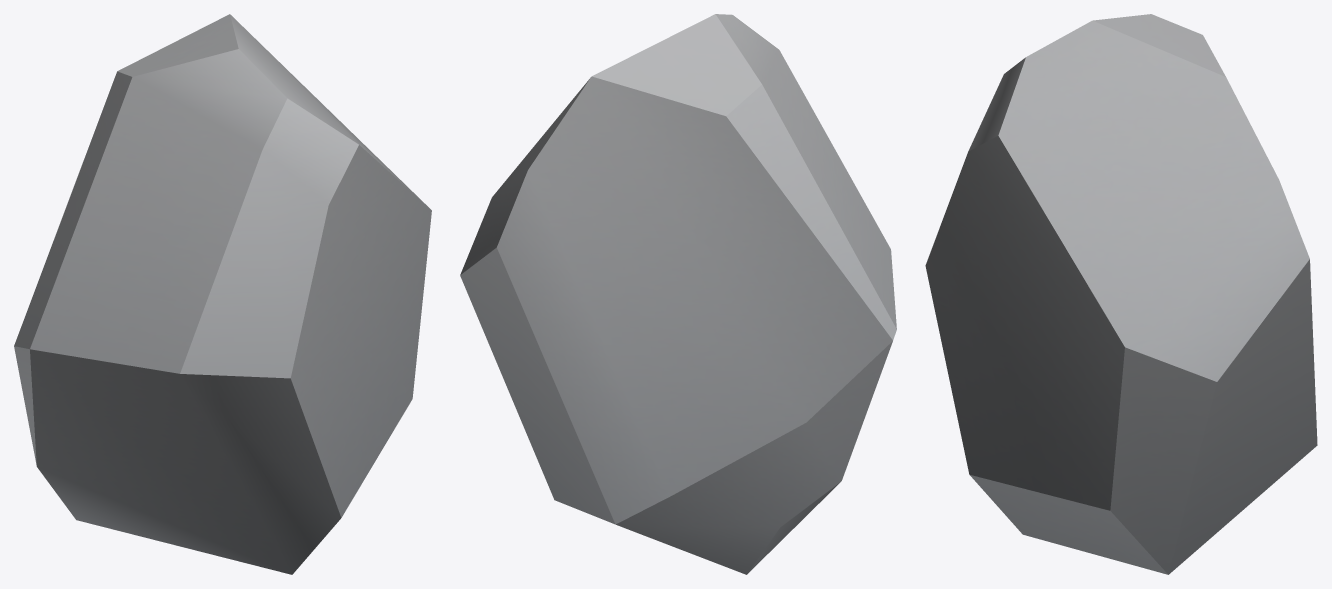
Rendered from rocaRedonda4.fbx.
The picture shows the model from 3 angles, left to right: view 1: azimuth 30°, elevation 25°; view 2: azimuth 150°, elevation 25°; view 3: azimuth 270°, elevation 25°; orthographic projection.
Parts seen in each view (by area): view 1: rocaRedonda4; view 2: rocaRedonda4; view 3: rocaRedonda4.
Part boxes in pixels (<box>): rocaRedonda4: <box>14,14,431,574</box>; rocaRedonda4: <box>460,14,896,574</box>; rocaRedonda4: <box>925,14,1317,574</box>.
Size of the model in its own units: 213 by 249 by 175.
